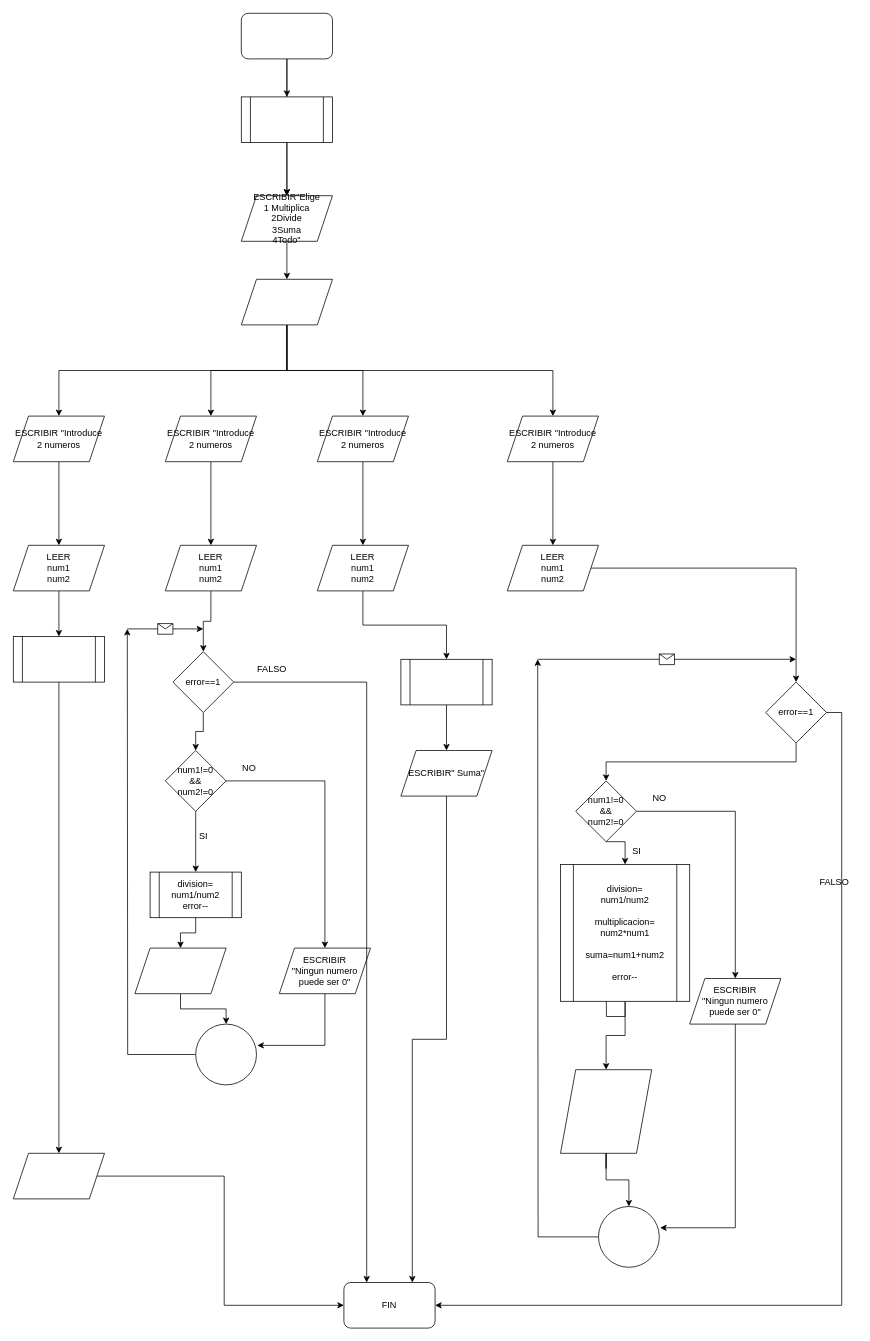
The diagram is 870 pixels wide and 1341 high, and some of its shapes have lost their labels. The shapes that lost their labels are listed below. From the top down, each one's centre as x and y in pixels, then its label:
(x=286, y=36): INICIO
(x=286, y=119): error=1
(x=286, y=302): LEER elige
(x=58, y=659): multiplicacion= num1*num2
(x=446, y=682): SUMA= num1+num2
(x=180, y=970): ESCRIBIR "resultado de la division
(x=606, y=1111): ESCRIBIR "resultado de la division + suma+ multiplicacion
(x=58, y=1176): ESCRIBIR" Multiplicacion"
